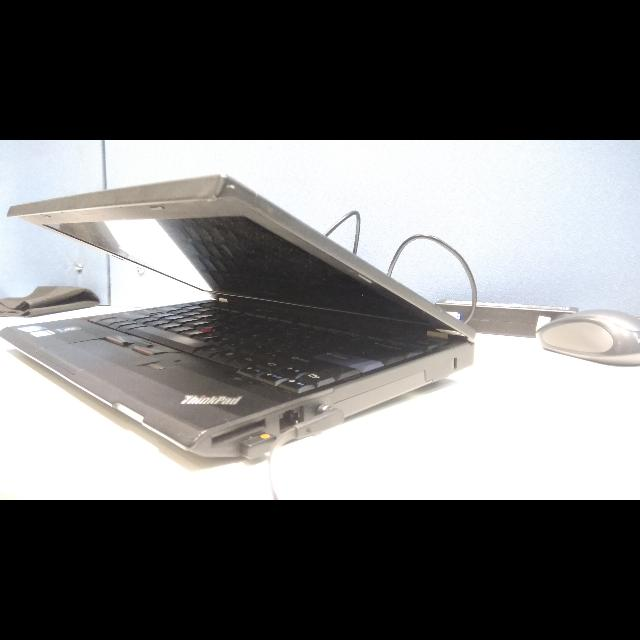Laptop: (1, 171, 482, 474)
